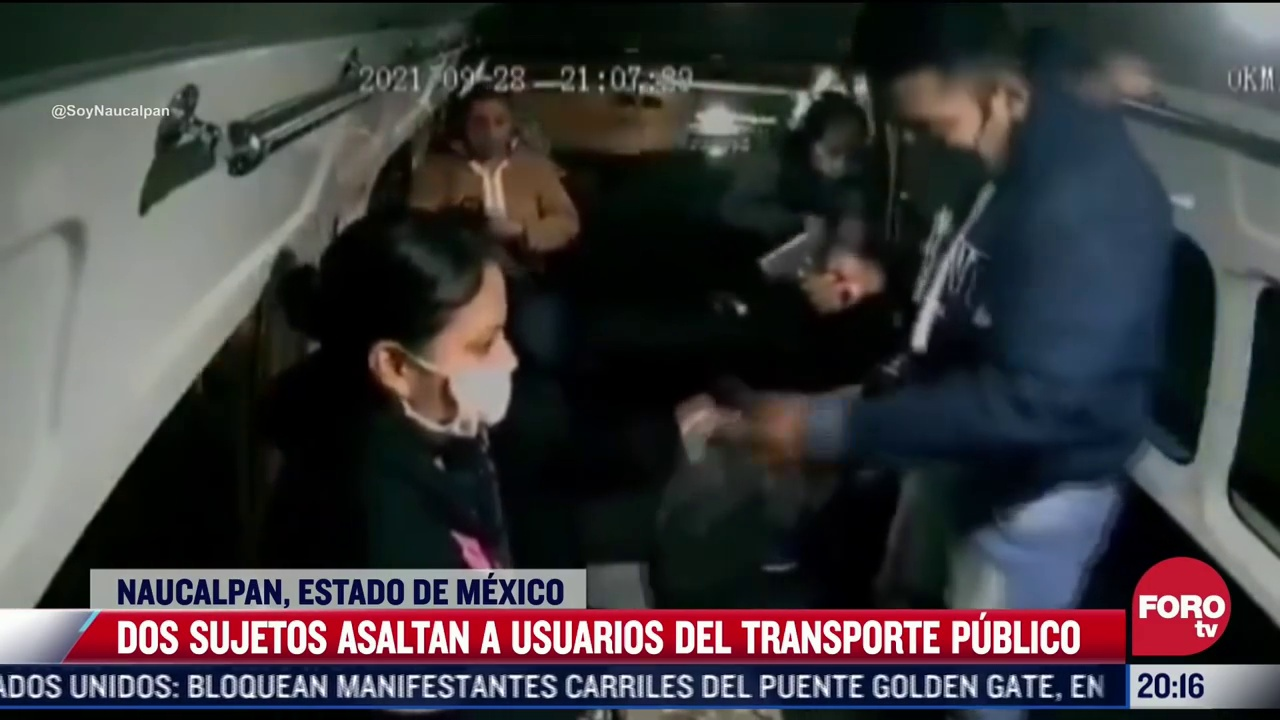pistol: (758, 228, 854, 308)
